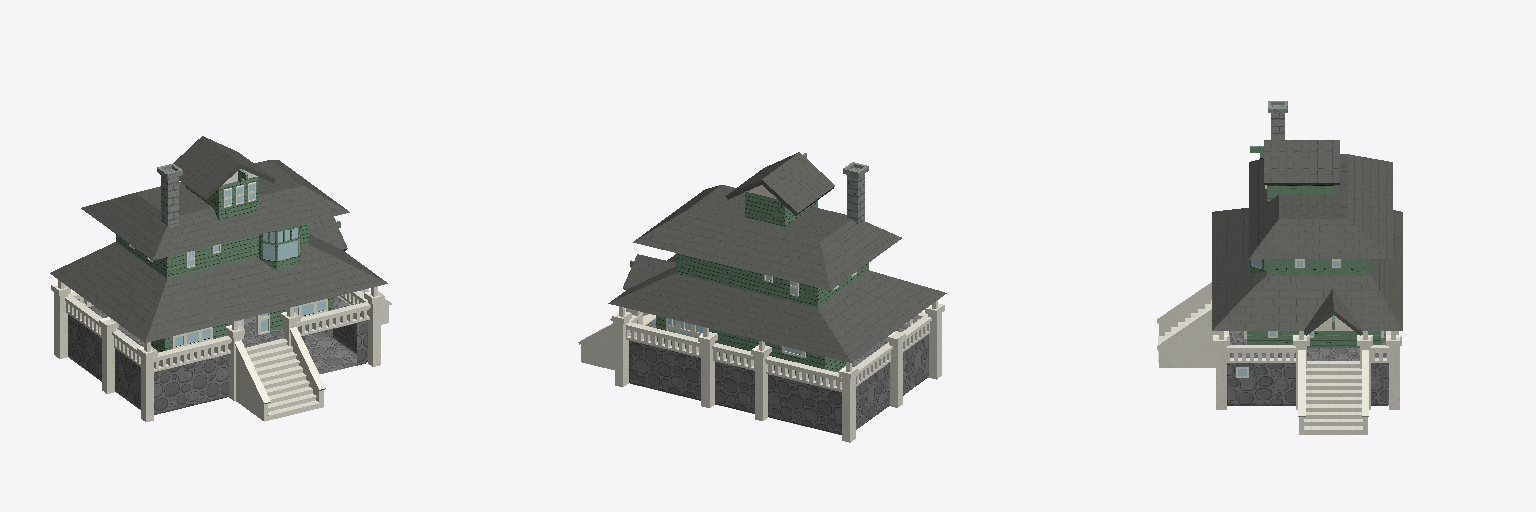
3 views of the same model, side by side, from view 1: azimuth 30°, elevation 25°; view 2: azimuth 150°, elevation 25°; view 3: azimuth 270°, elevation 25° (orthographic).
Visible parts, largest first — view 1: casa2:pCube14, balcon:pCube1, pasamanos:pCube1, pCube1, pCube18, pCube16, columna:pCube1, pCube23, pCube3, pCube19, pCube2; view 2: casa2:pCube14, pCube6, pCube4, pCube18, pCube22, pCube17, pCube16, pCube21, columna:pCube1, pCube5, pCube3, pCube2; view 3: casa2:pCube14, pCube13, pCube23, pCube17.
Boxes of the visible parts, box(x1,y1,x2,y2) form: casa2:pCube14: box(50, 136, 391, 421); balcon:pCube1: box(259, 225, 300, 269); pasamanos:pCube1: box(154, 336, 231, 371); pCube1: box(283, 302, 370, 335); pCube18: box(51, 283, 70, 358); pCube16: box(99, 317, 118, 393); columna:pCube1: box(137, 346, 157, 421); pCube23: box(364, 291, 384, 366); pCube3: box(65, 296, 120, 343); pCube19: box(225, 325, 244, 400); pCube2: box(95, 320, 141, 366); casa2:pCube14: box(578, 152, 946, 434); pCube6: box(626, 322, 700, 357); pCube4: box(767, 356, 841, 391); pCube18: box(839, 366, 858, 442); pCube22: box(698, 332, 717, 407); pCube17: box(612, 311, 631, 386); pCube16: box(886, 331, 905, 407); pCube21: box(751, 345, 771, 420); columna:pCube1: box(925, 303, 944, 379); pCube5: box(689, 343, 773, 374); pCube3: box(855, 342, 891, 386); pCube2: box(881, 315, 930, 367); casa2:pCube14: box(1157, 101, 1402, 434); pCube13: box(1227, 345, 1295, 362); pCube23: box(1213, 335, 1229, 409); pCube17: box(1386, 335, 1401, 409).
Bounding box in the file's own units: 15.93 × 11.43 × 11.69.
22 materials, 6 textured.